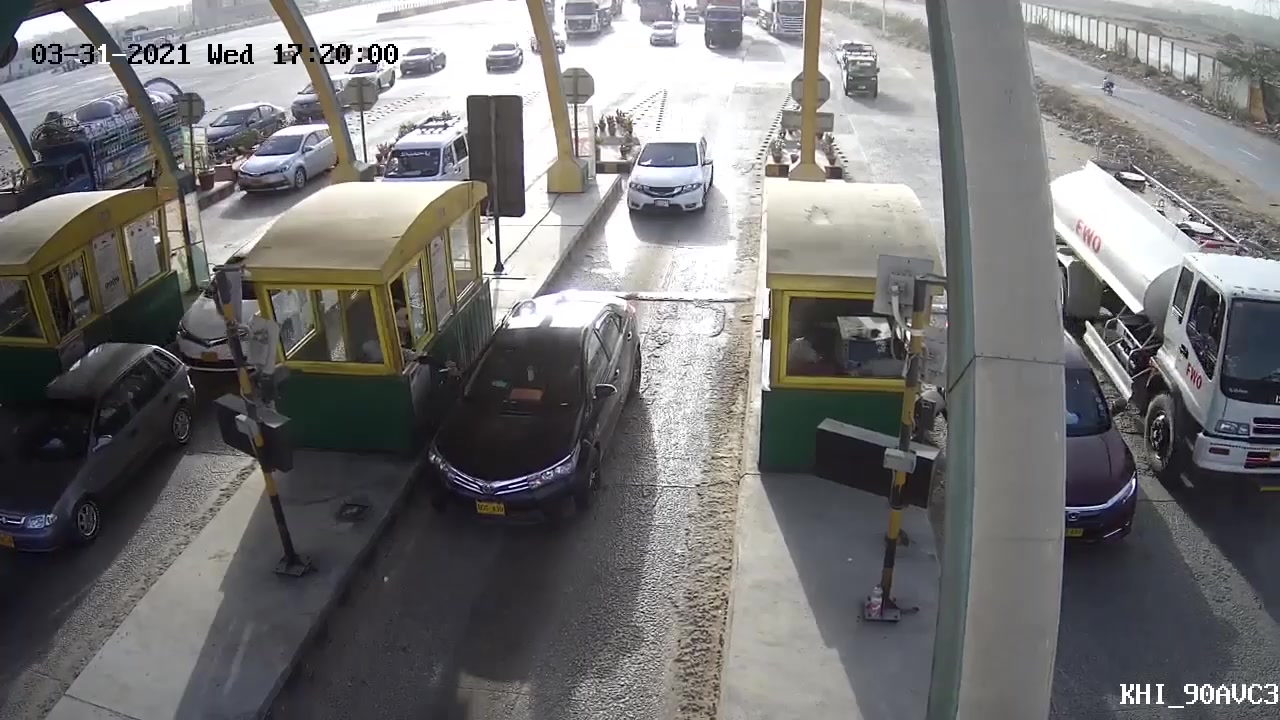F1: (418, 282, 652, 530)
